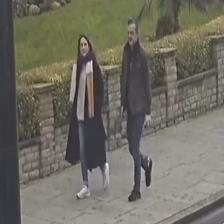person: (120, 16, 152, 201), (75, 34, 109, 197)
